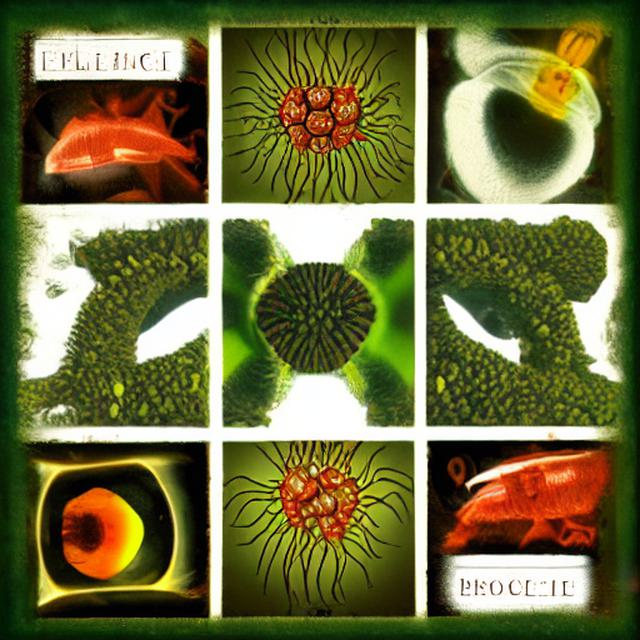Graph: (65, 38, 131, 77)
